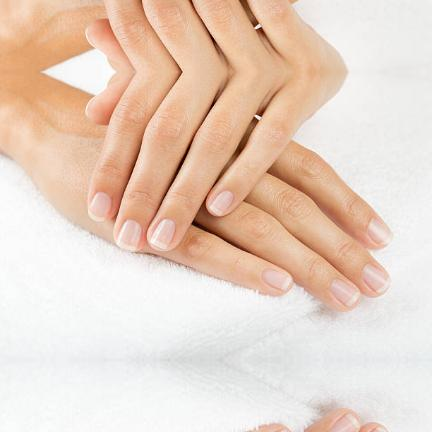Nail: (115, 219, 142, 251), (362, 264, 391, 293), (330, 279, 360, 307), (150, 218, 175, 249), (88, 191, 111, 222), (367, 221, 393, 247), (262, 269, 292, 291), (210, 190, 234, 216), (330, 413, 360, 432), (369, 427, 388, 432), (276, 429, 287, 432)
